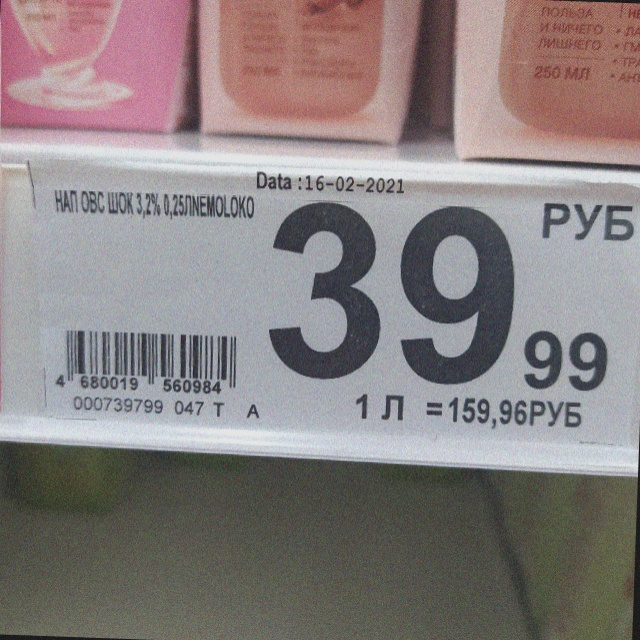barcode: (51, 327, 241, 395)
name: (53, 188, 256, 222)
price: (264, 199, 609, 397)
price_tag: (26, 159, 635, 445)
